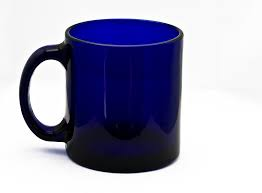cup: (17, 16, 203, 177)
